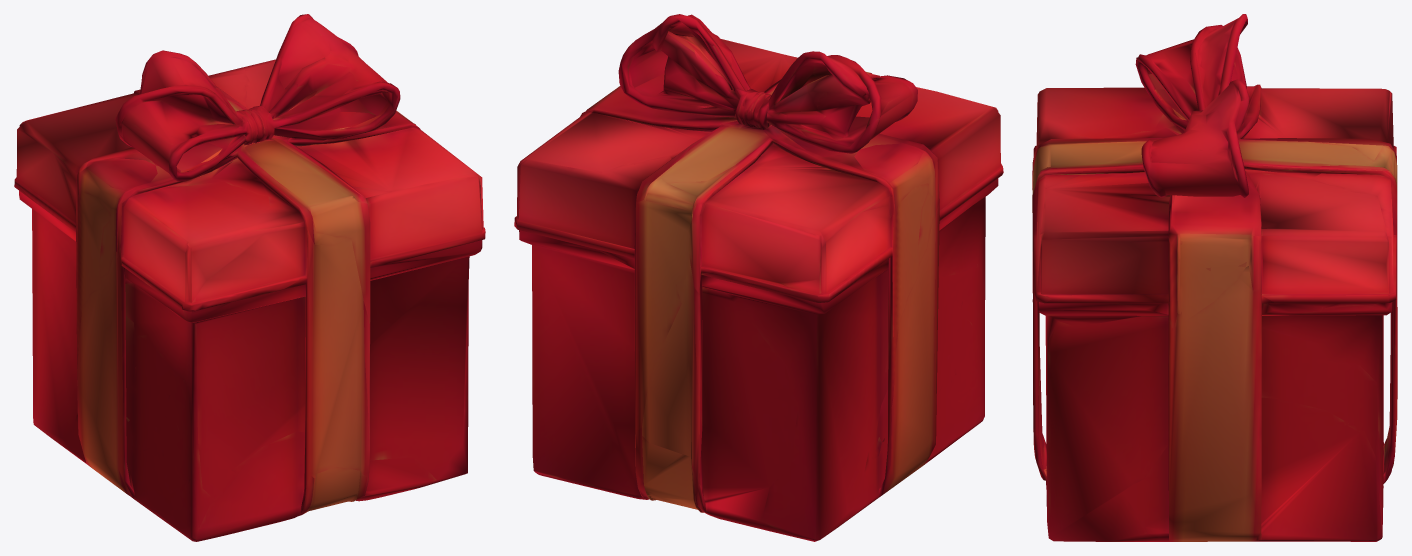
File: tiny_planet_friends_3d-packaging-2922.glb
3 views of the same model, side by side, from view 1: azimuth 30°, elevation 25°; view 2: azimuth 150°, elevation 25°; view 3: azimuth 270°, elevation 25° (orthographic). The views are drawn at different scales.
Parts seen in each view (by area): view 1: texture_pbr_v128; view 2: texture_pbr_v128; view 3: texture_pbr_v128.
Boxes of the visible parts, x1,y1,x2,y2 form: texture_pbr_v128: (14, 14, 485, 541); texture_pbr_v128: (514, 14, 1003, 541); texture_pbr_v128: (1032, 14, 1397, 541).
Bounding box in the file's own units: 0.6703 × 0.8661 × 0.6743.
Materials: 1 (1 with a texture image).
